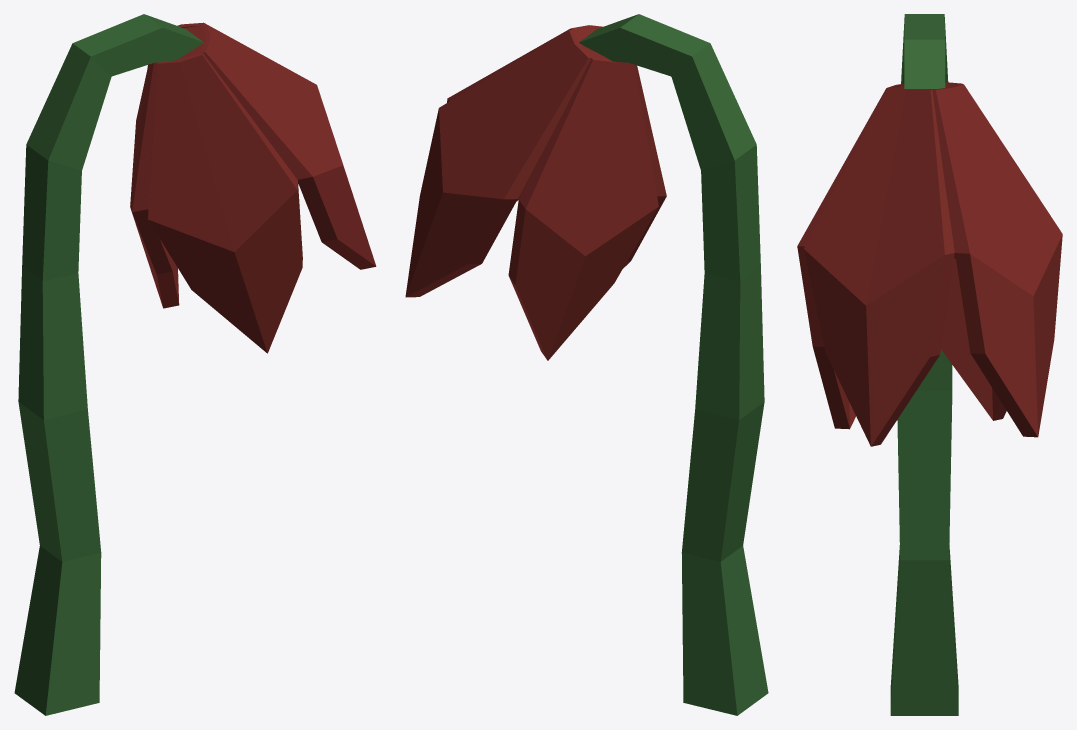
The model's file is Flower_3_Red.fbx.
3 views of the same model, side by side, from view 1: azimuth 30°, elevation 25°; view 2: azimuth 150°, elevation 25°; view 3: azimuth 270°, elevation 25° (orthographic). The views are drawn at different scales.
Parts seen in each view (by area): view 1: Flower_3_Red_Part_2, Flower_3_Red_Part_1; view 2: Flower_3_Red_Part_2, Flower_3_Red_Part_1; view 3: Flower_3_Red_Part_2, Flower_3_Red_Part_1.
Boxes of the visible parts, box(x1,y1,x2,y2) form: Flower_3_Red_Part_2: box(130, 22, 376, 353); Flower_3_Red_Part_1: box(14, 14, 203, 715); Flower_3_Red_Part_2: box(405, 25, 666, 360); Flower_3_Red_Part_1: box(579, 14, 768, 715); Flower_3_Red_Part_2: box(797, 82, 1062, 446); Flower_3_Red_Part_1: box(890, 14, 958, 715).
Size of the model in its own units: 20.43 by 39.65 by 13.38.
